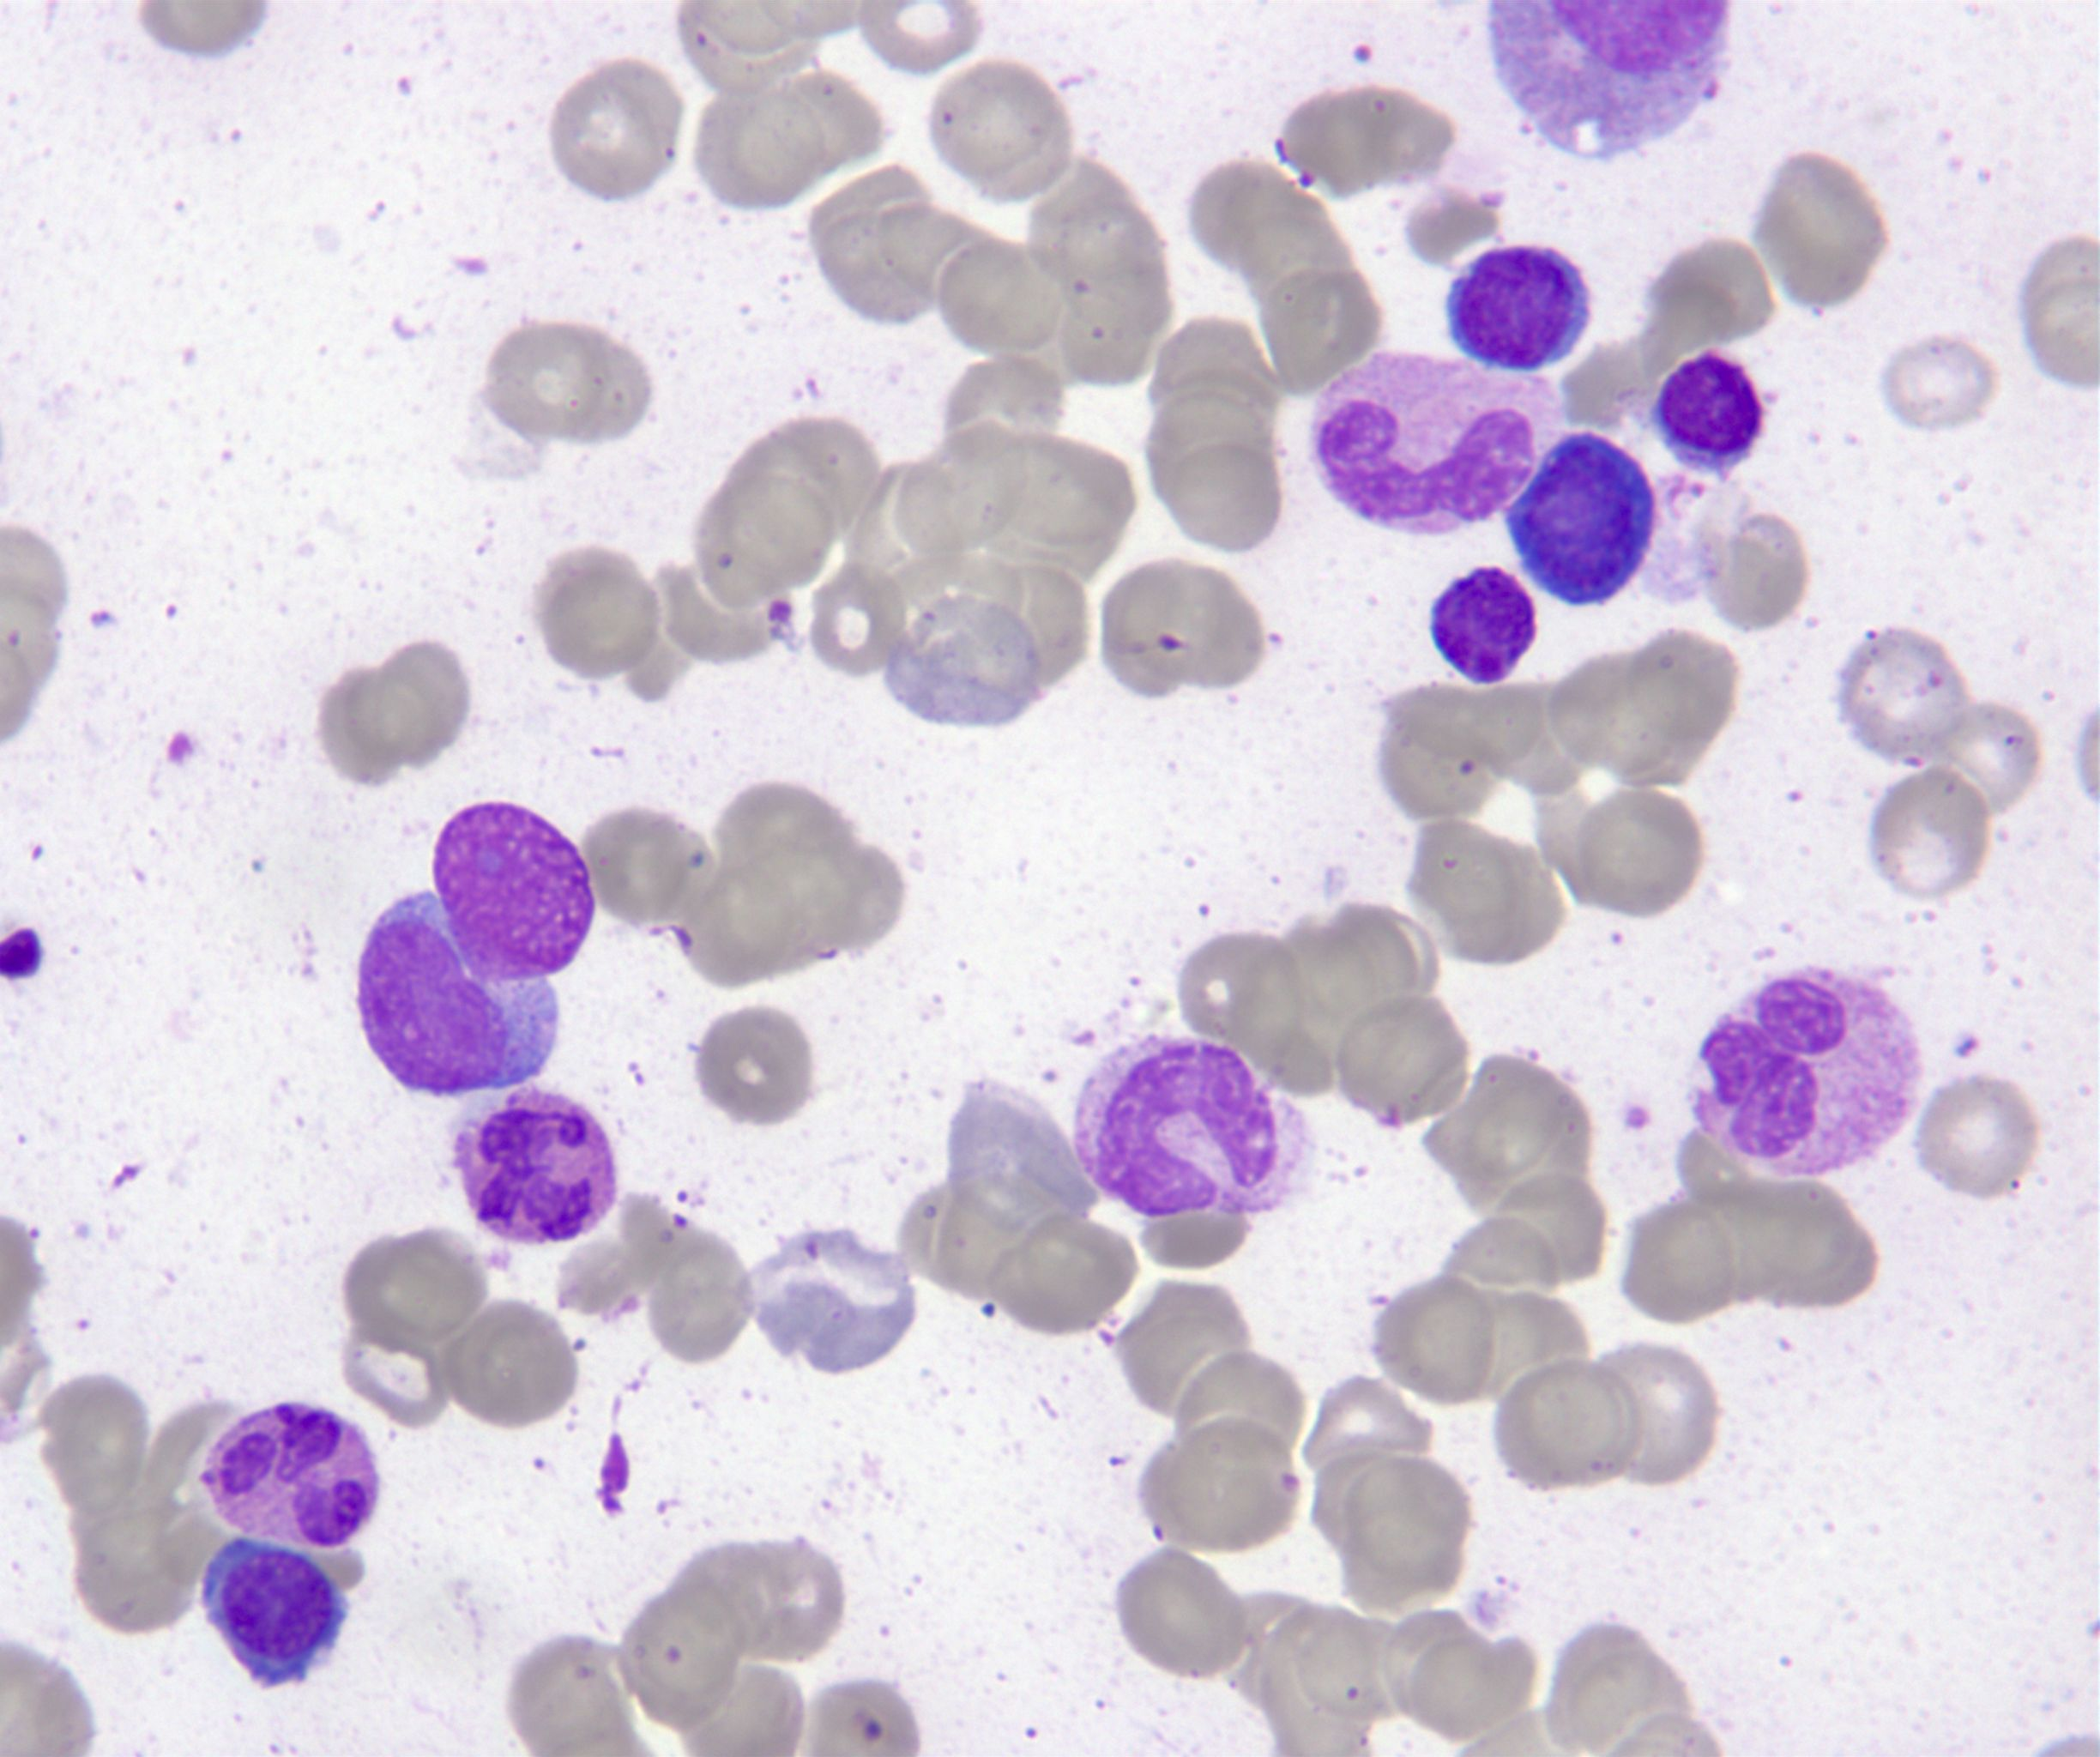23: (1505, 436, 1653, 605), (202, 1541, 351, 1689)
3: (359, 890, 556, 1096)
32: (1448, 246, 1589, 370), (1652, 351, 1762, 476)
5: (1312, 351, 1566, 534), (1073, 1033, 1305, 1214)
6: (1690, 968, 1922, 1179), (197, 1405, 380, 1549), (457, 1087, 617, 1244)
x: (1488, 3, 1730, 155), (433, 803, 595, 982), (1434, 567, 1538, 686)
